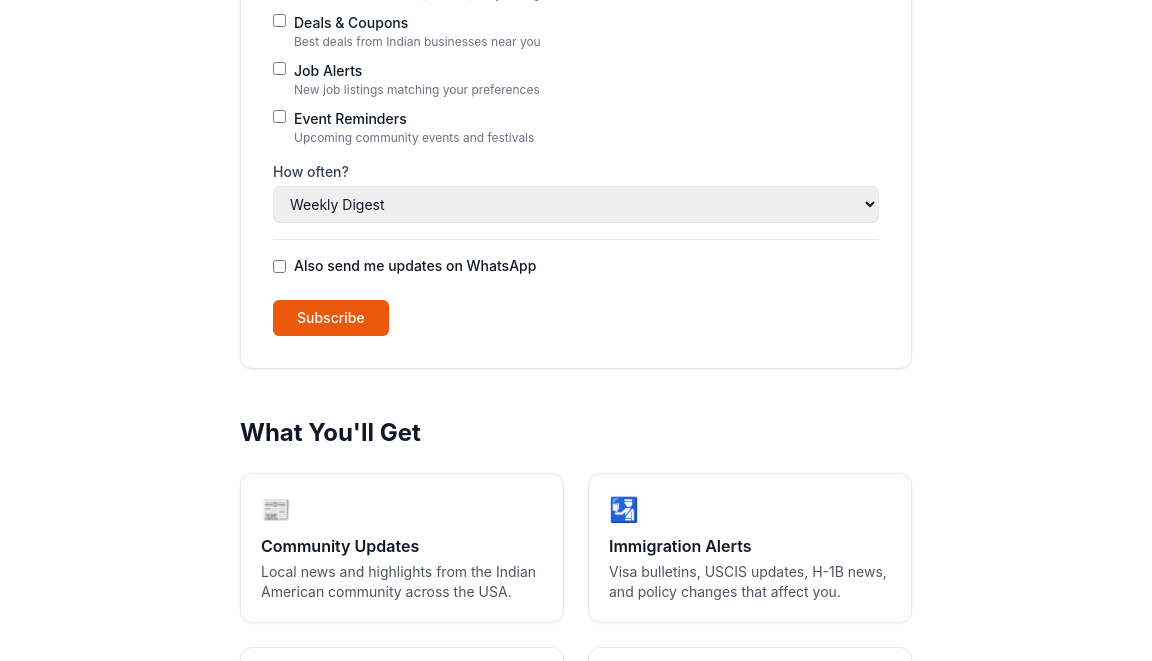
Test: SubscribePage › form validation › should show error when submitting with empty email
(page scrolled)
Click the button "Subscribe".
click(331, 318)  # box [273,300,389,336]
(page scrolled)
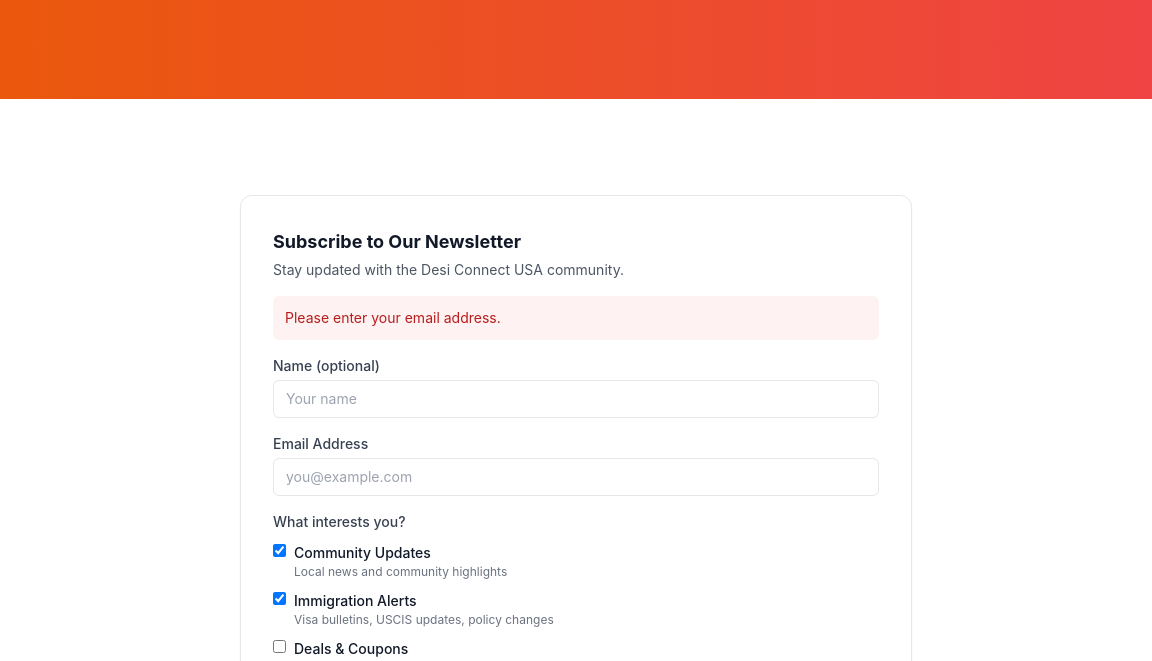
Check: the text "Please enter your email address." is shown, box [273,296,879,340]
